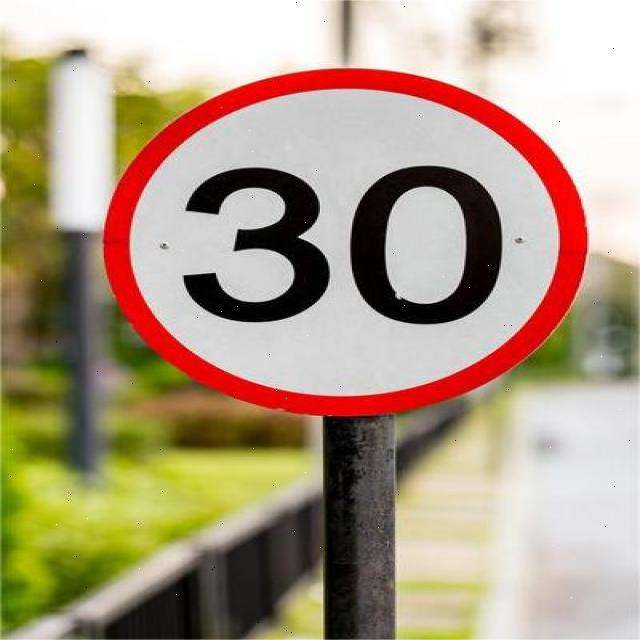speed limit 30: (94, 70, 592, 420)
